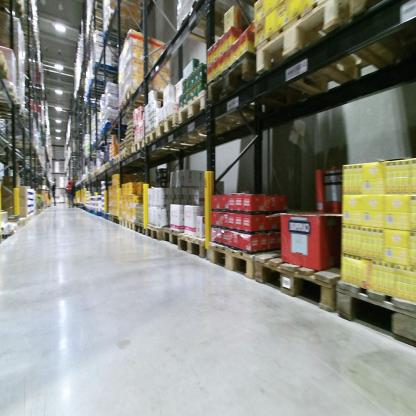pallet: (254, 1, 402, 99), (202, 52, 302, 122), (346, 1, 416, 87), (334, 271, 415, 345), (254, 245, 343, 311), (209, 237, 300, 283), (176, 91, 257, 133), (177, 1, 232, 47), (153, 111, 218, 145), (146, 126, 217, 155), (134, 135, 188, 162), (122, 86, 177, 108), (178, 228, 215, 258), (91, 59, 120, 83), (161, 224, 185, 246), (145, 222, 166, 238), (1, 51, 9, 76), (125, 141, 137, 154), (134, 220, 145, 234), (127, 218, 135, 233), (117, 216, 127, 228)
